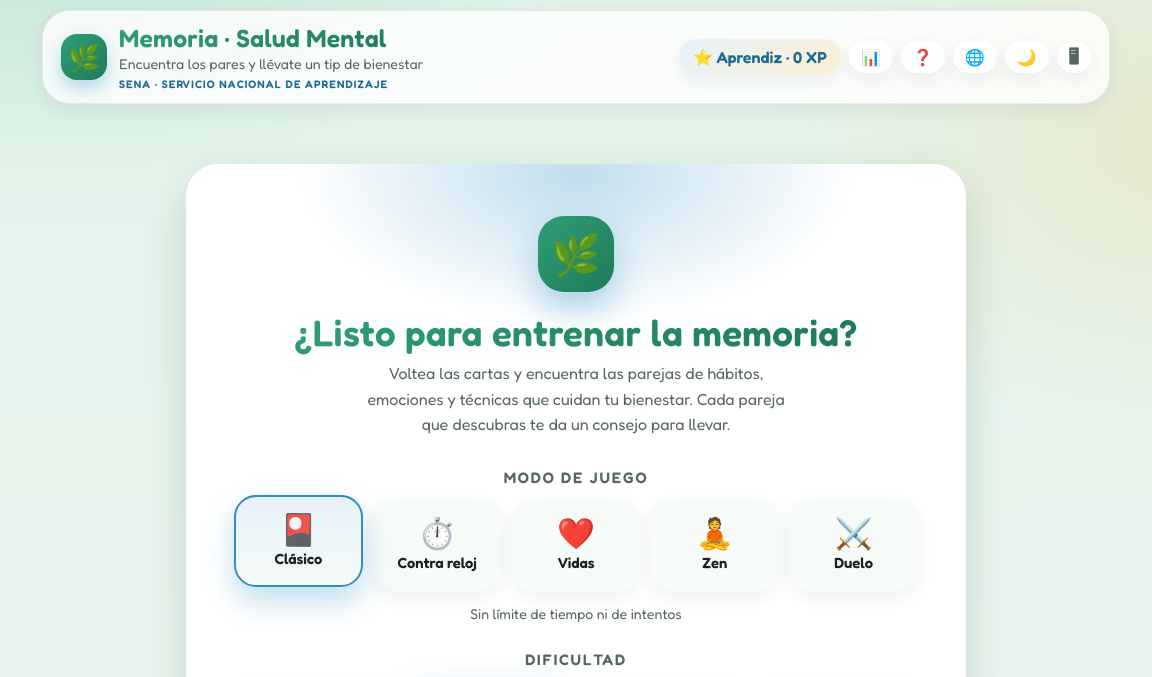
juego de memoria › pierde cuando se acaba el tiempo en modo contra reloj
The width and height of the screenshot is (1152, 677).
Click the button "⏱️ Contra reloj" at (437, 545), box [373,499,502,591]
(page scrolled)
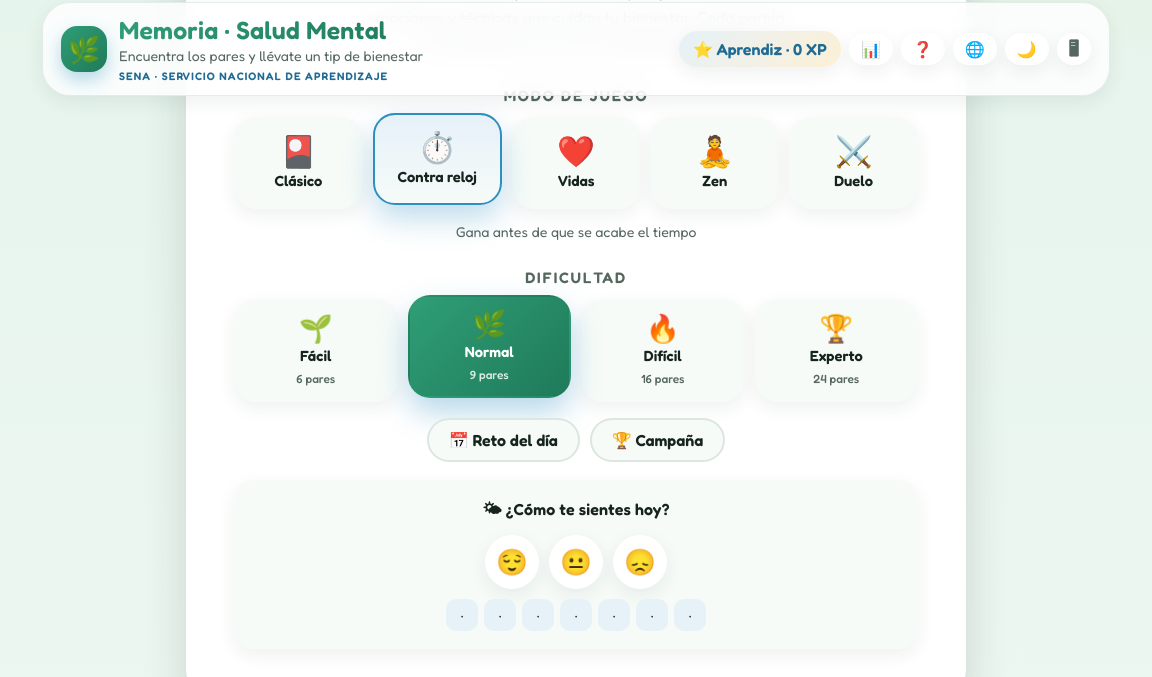
Click the button with aria-label "Fácil · 6 pares" at (316, 350), box [234,299,398,402]
Wait 95000 ms
(page scrolled)
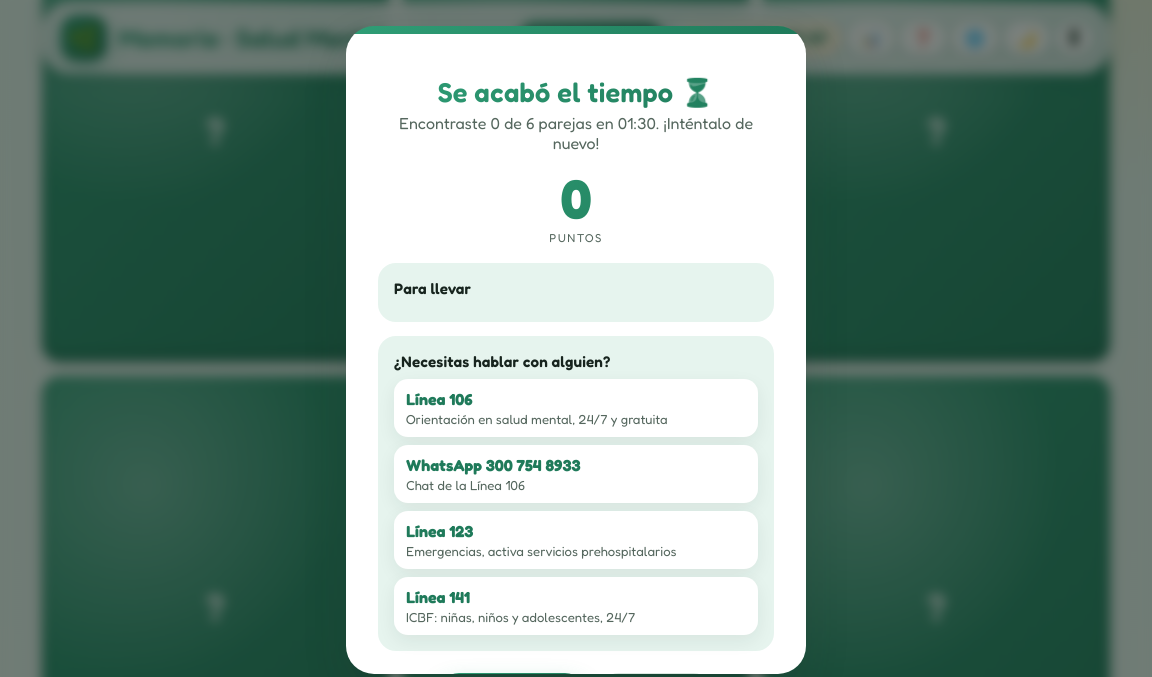
Result: the heading "Se acabó el tiempo ⏳" is shown at [378,76,774,109]
